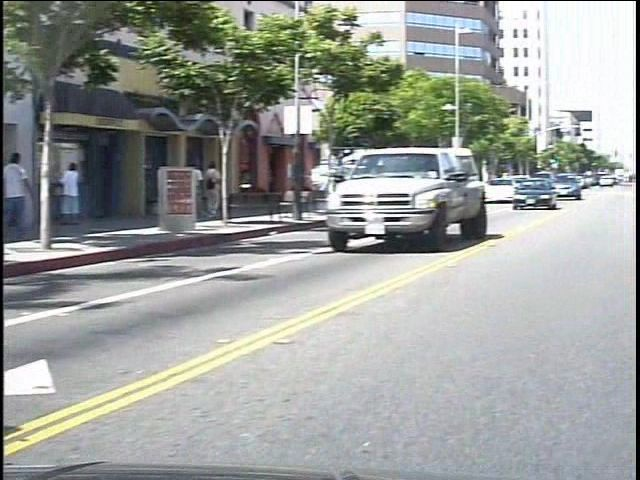person: (73, 158, 101, 233), (215, 162, 237, 224)
